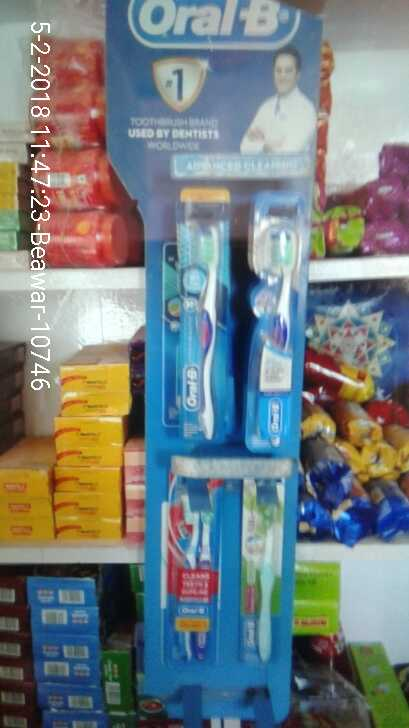oralb: (244, 193, 304, 453), (160, 458, 223, 669), (180, 188, 226, 441), (240, 477, 285, 668)
